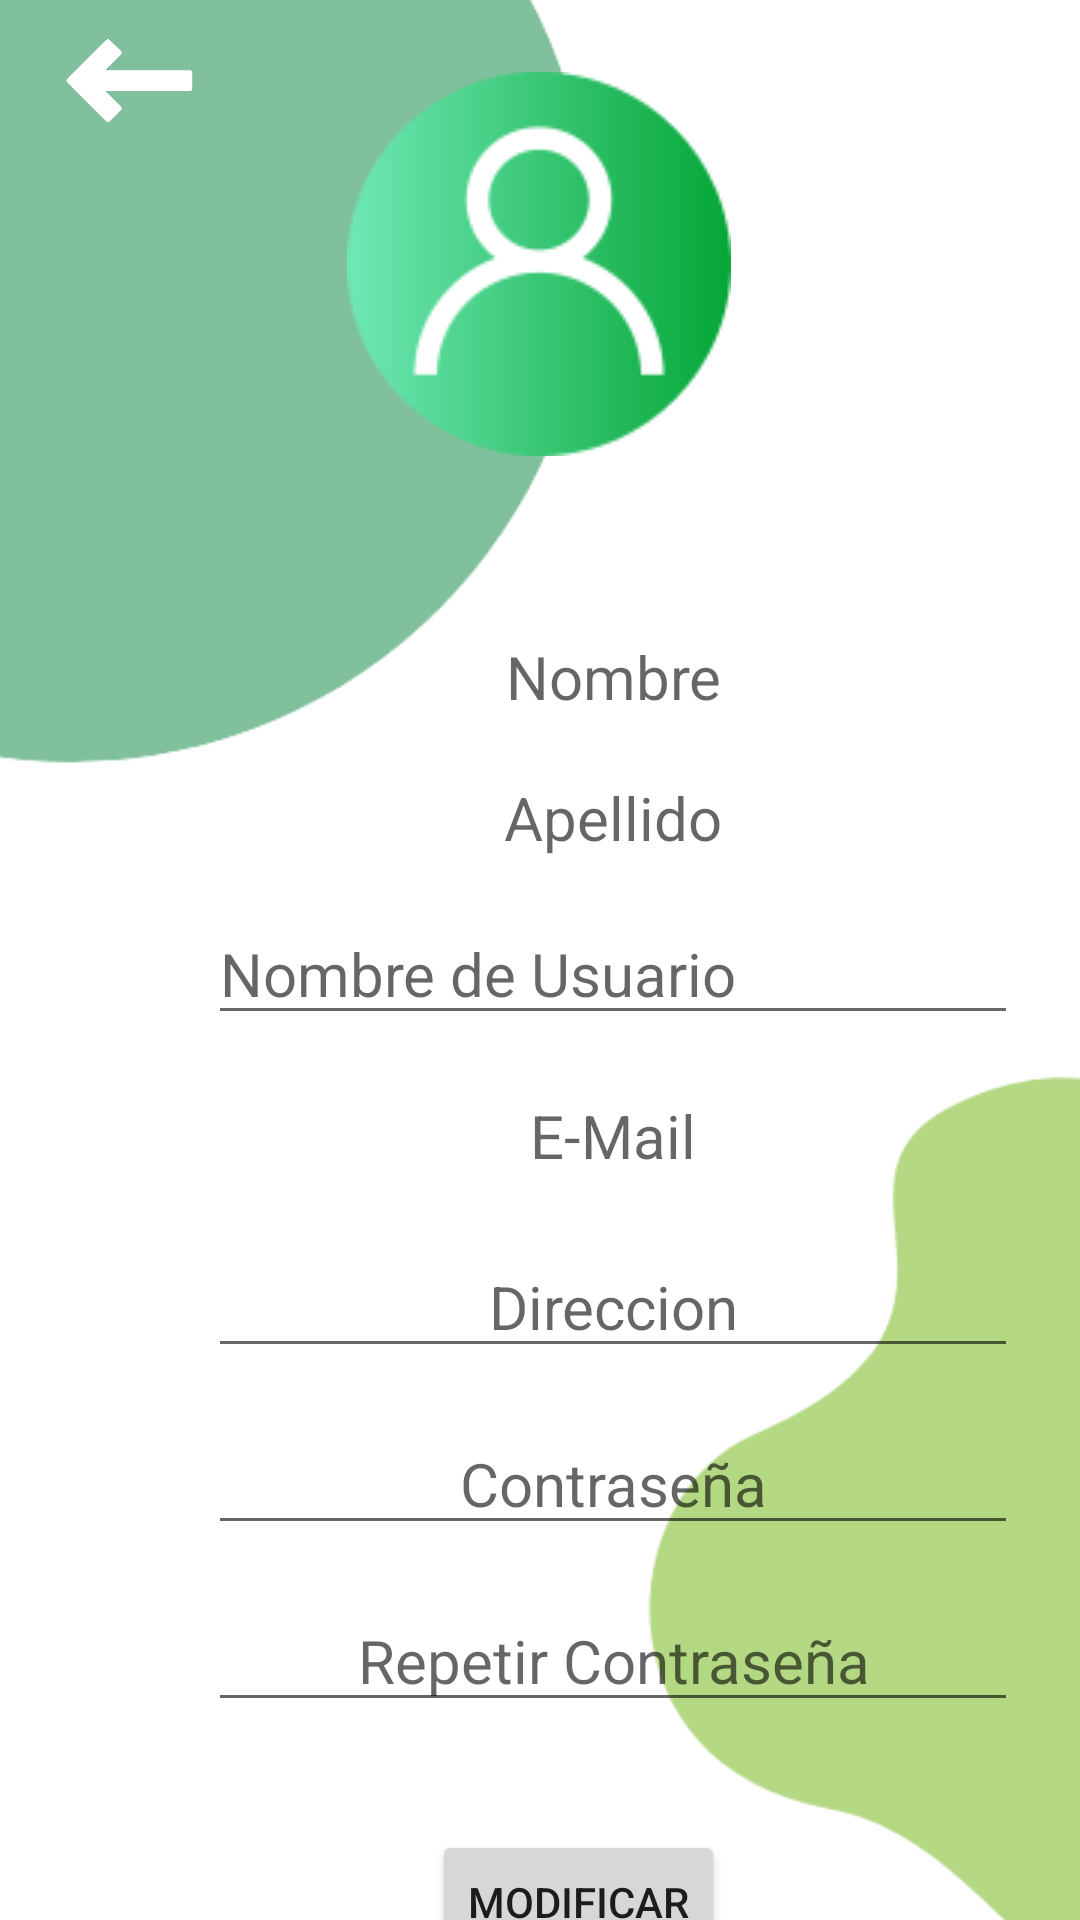

Screen size 1080 x 1920. Icon name, then its center in pixels as (x=x, y=y):
arrowback: (x=129, y=80)
